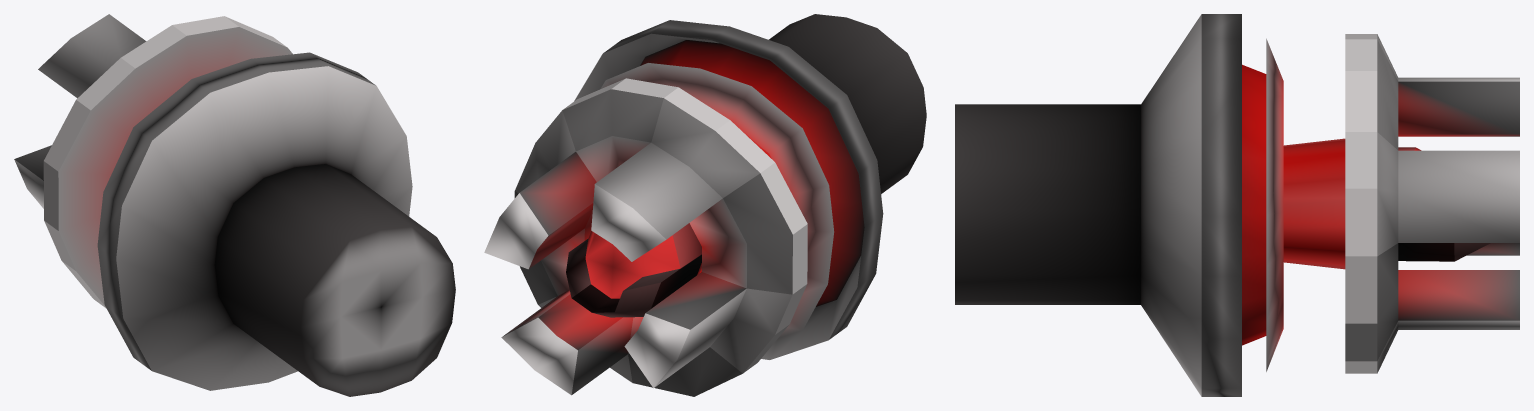
File: laser1.fbx
3 views of the same model, side by side, from view 1: azimuth 30°, elevation 25°; view 2: azimuth 150°, elevation 25°; view 3: azimuth 270°, elevation 25° (orthographic). The views are drawn at different scales.
Visible parts, largest first — view 1: polySurface163, polySurface164; view 2: polySurface164, polySurface163, pCube111; view 3: polySurface163, polySurface164, pCube111.
Part boxes in pixels (x1,y1,x2,y2): polySurface163: (97,52,455,396); polySurface164: (14,14,292,308); polySurface164: (484,78,807,396); polySurface163: (574,14,926,359); pCube111: (566,223,701,317); polySurface163: (955,14,1283,396); polySurface164: (1283,34,1519,373); pCube111: (1398,147,1490,261).
Bounding box in the file's own units: 121 × 121 × 185.
